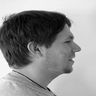ear: (21, 35, 49, 61)
